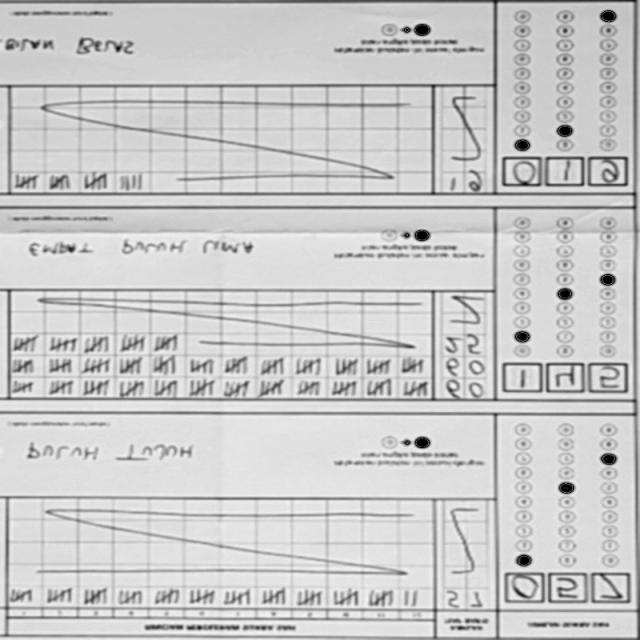Suara: (499, 570, 634, 610), (498, 151, 632, 191), (497, 358, 631, 398)
